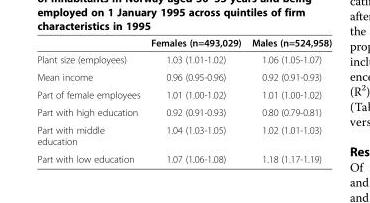table: (36, 36, 331, 164)
table column: (36, 36, 144, 164), (144, 36, 245, 164), (245, 36, 331, 164)
table column header: (36, 36, 331, 50)
table row: (36, 120, 331, 149), (36, 67, 331, 85), (36, 85, 331, 103), (36, 50, 331, 67), (36, 103, 331, 120), (36, 149, 331, 164), (36, 36, 331, 50)
